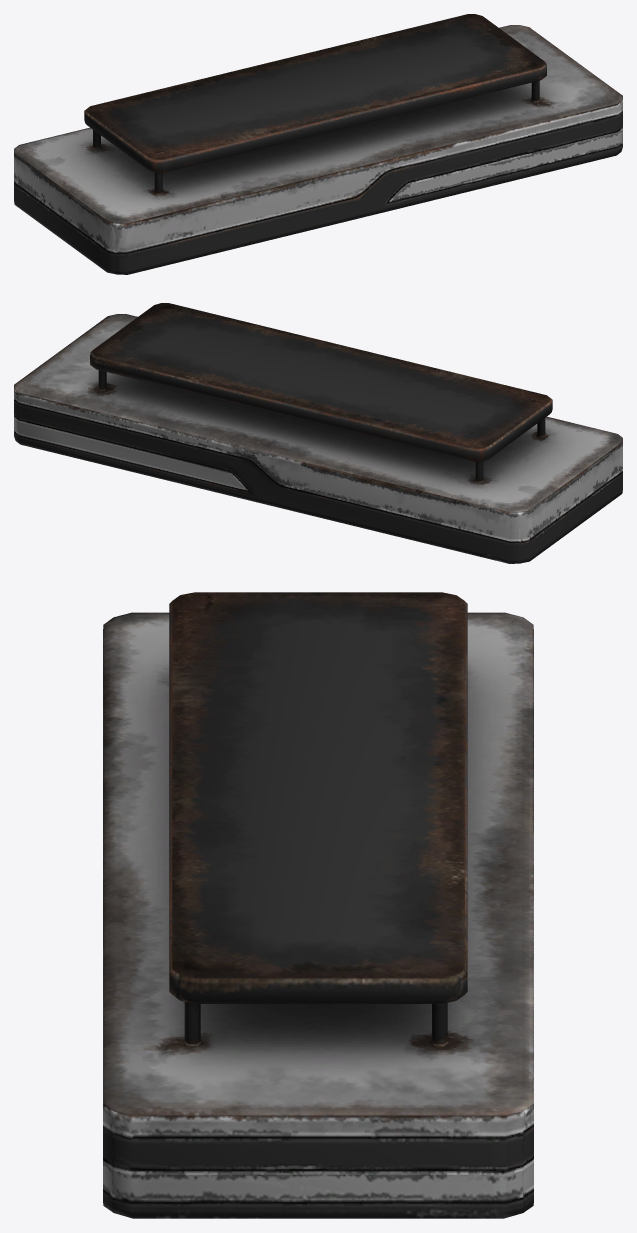
File: lamp_ceiling_comfy.DAE
3 views of the same model, one above another, from view 1: azimuth 30°, elevation 25°; view 2: azimuth 150°, elevation 25°; view 3: azimuth 270°, elevation 25° (orthographic). The views are drawn at different scales.
Parts seen in each view (by area): view 1: lamp_ceiling_comfy; view 2: lamp_ceiling_comfy; view 3: lamp_ceiling_comfy.
Part boxes in pixels (x1,y1,x2,y2): lamp_ceiling_comfy: [14, 14, 622, 274]; lamp_ceiling_comfy: [14, 303, 622, 563]; lamp_ceiling_comfy: [103, 592, 533, 1218].
Size of the model in its own units: 1.47 by 0.2479 by 0.5339.
